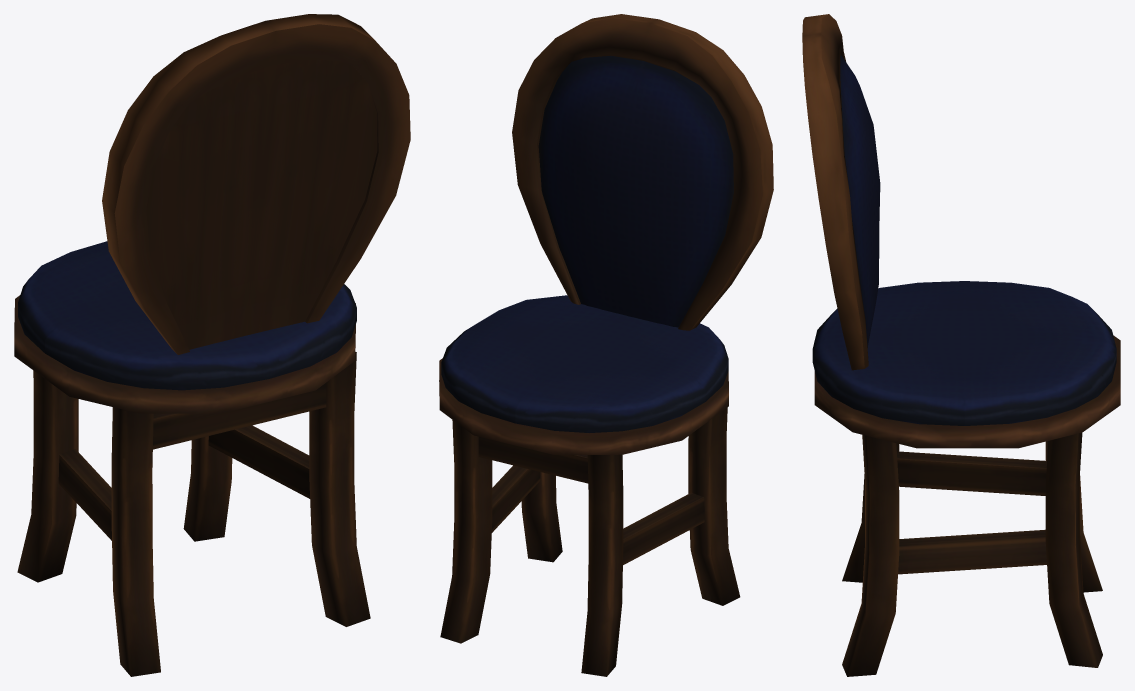
File: Chair_E.fbx
The picture shows the model from 3 angles, left to right: view 1: azimuth 30°, elevation 25°; view 2: azimuth 150°, elevation 25°; view 3: azimuth 270°, elevation 25°; orthographic projection. The views are drawn at different scales.
Visible parts, largest first — view 1: Chair_Backing_A1, Chair_Legs_A, Chair_Cushion_Base_B, Chair_Legs_A_Support, Chair_Base_B; view 2: Chair_Backing_A1, Chair_Cushion_Base_B, Chair_Legs_A, Chair_Legs_A_Support, Chair_Base_B; view 3: Chair_Cushion_Base_B, Chair_Legs_A, Chair_Backing_A1, Chair_Legs_A_Support, Chair_Base_B.
Part boxes in pixels (bbox=[...]): Chair_Backing_A1: bbox=[102, 14, 410, 354]; Chair_Legs_A: bbox=[17, 352, 370, 676]; Chair_Cushion_Base_B: bbox=[18, 241, 356, 390]; Chair_Legs_A_Support: bbox=[58, 383, 326, 540]; Chair_Base_B: bbox=[14, 295, 355, 413]; Chair_Backing_A1: bbox=[512, 14, 773, 330]; Chair_Cushion_Base_B: bbox=[441, 295, 728, 432]; Chair_Legs_A: bbox=[440, 407, 740, 676]; Chair_Legs_A_Support: bbox=[478, 436, 704, 564]; Chair_Base_B: bbox=[439, 358, 728, 454]; Chair_Cushion_Base_B: bbox=[812, 281, 1116, 425]; Chair_Legs_A: bbox=[842, 432, 1102, 676]; Chair_Backing_A1: bbox=[802, 14, 880, 370]; Chair_Legs_A_Support: bbox=[897, 451, 1046, 574]; Chair_Base_B: bbox=[814, 335, 1120, 448].
Bounding box in the file's own units: 5.84 × 12.02 × 5.88.
